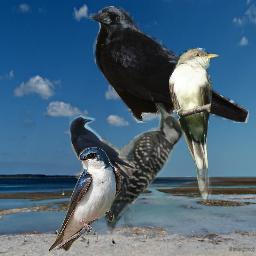Crow: (89, 6, 249, 123), (69, 114, 135, 181)
Cuckoo: (169, 47, 219, 203)
Swallow: (48, 146, 123, 253)
Woodpecker: (101, 100, 184, 233)
